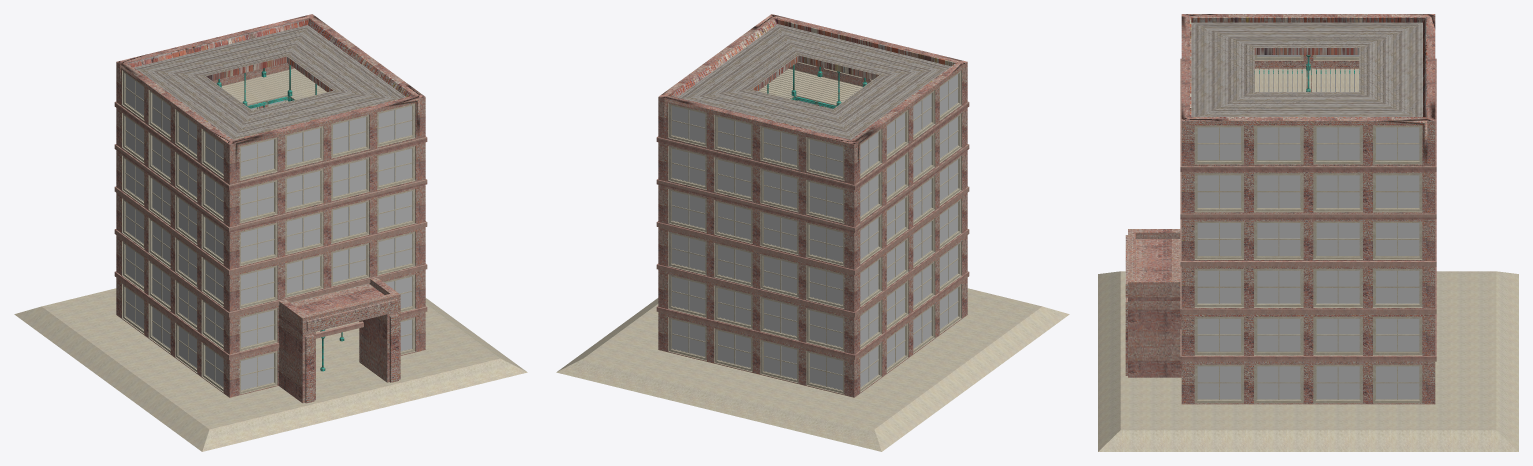
File: planksnbrick.fbx
The picture shows the model from 3 angles, left to right: view 1: azimuth 30°, elevation 25°; view 2: azimuth 150°, elevation 25°; view 3: azimuth 270°, elevation 25°; orthographic projection. The views are drawn at different scales.
Visible parts, largest first — view 1: Plane; view 2: Plane; view 3: Plane.
Part boxes in pixels (<box>): Plane: <box>14,14,527,451</box>; Plane: <box>556,14,1069,451</box>; Plane: <box>1098,14,1518,451</box>.
Bounding box in the file's own units: 6194 × 4798 × 6194.
